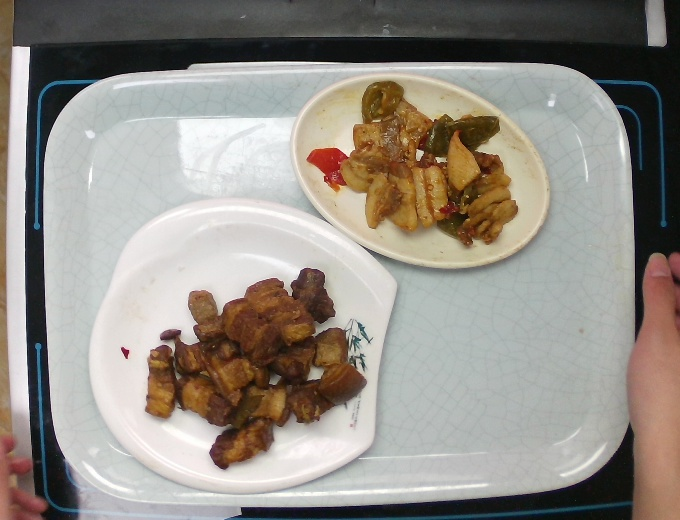JYsf-Mian_Pan: (85, 198, 399, 495)
JYsf-Tuo_Yuan_Wan: (287, 65, 554, 271)
